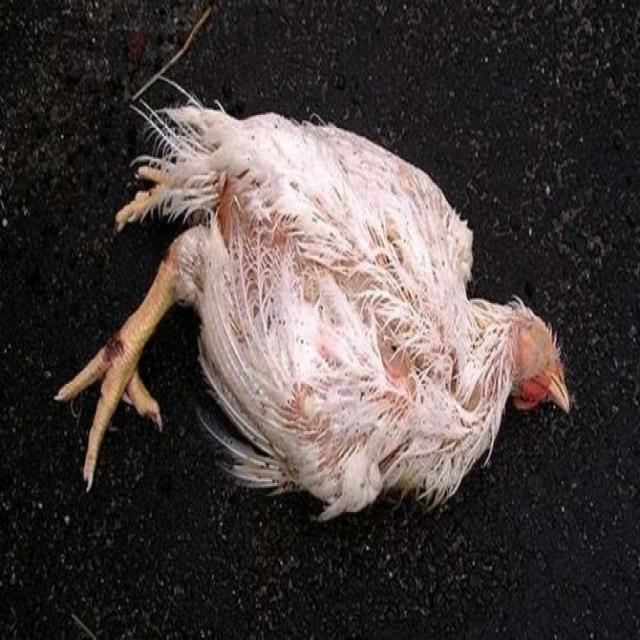Unhealthy: (40, 92, 590, 523)
